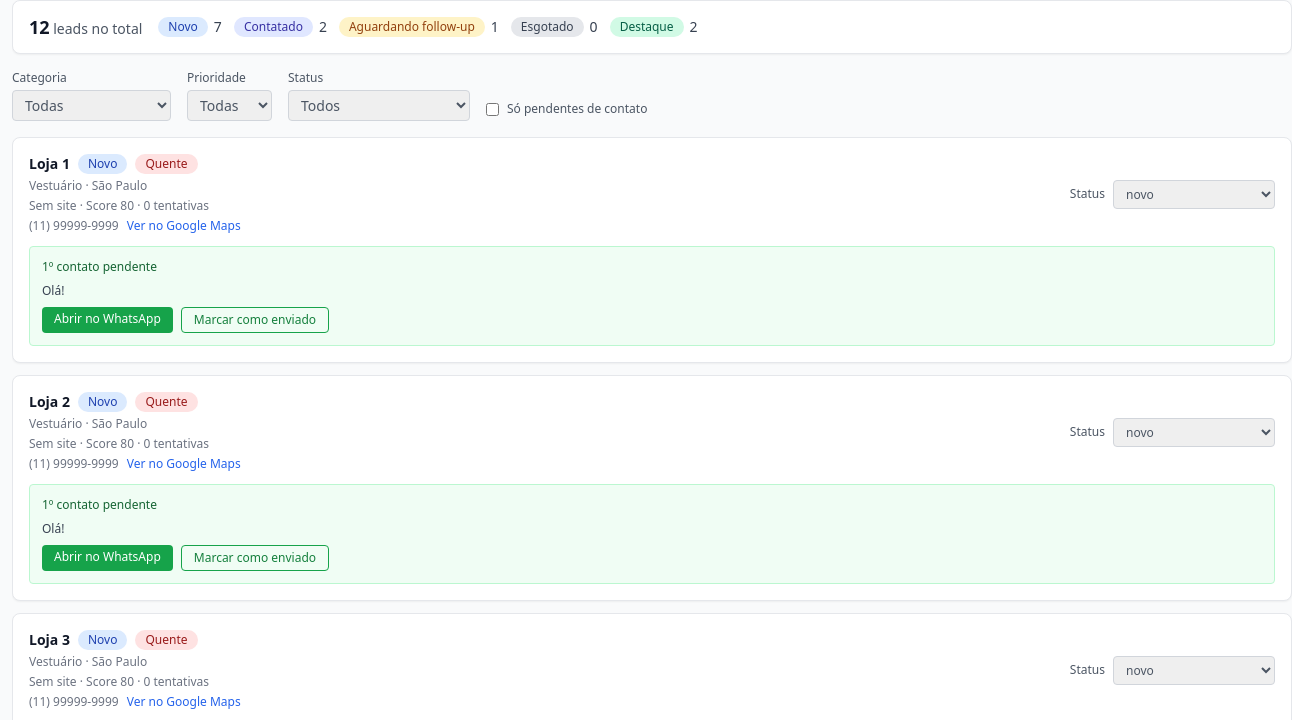
Test case: LeadsList › volta para a primeira página ao trocar o filtro
The image size is (1292, 720).
Expected: the heading "Loja 1" is shown, [29,154,70,174]
Select "sem_site" in the dropdown named "Filtrar por categoria" at (92,106), box [12,90,171,121]
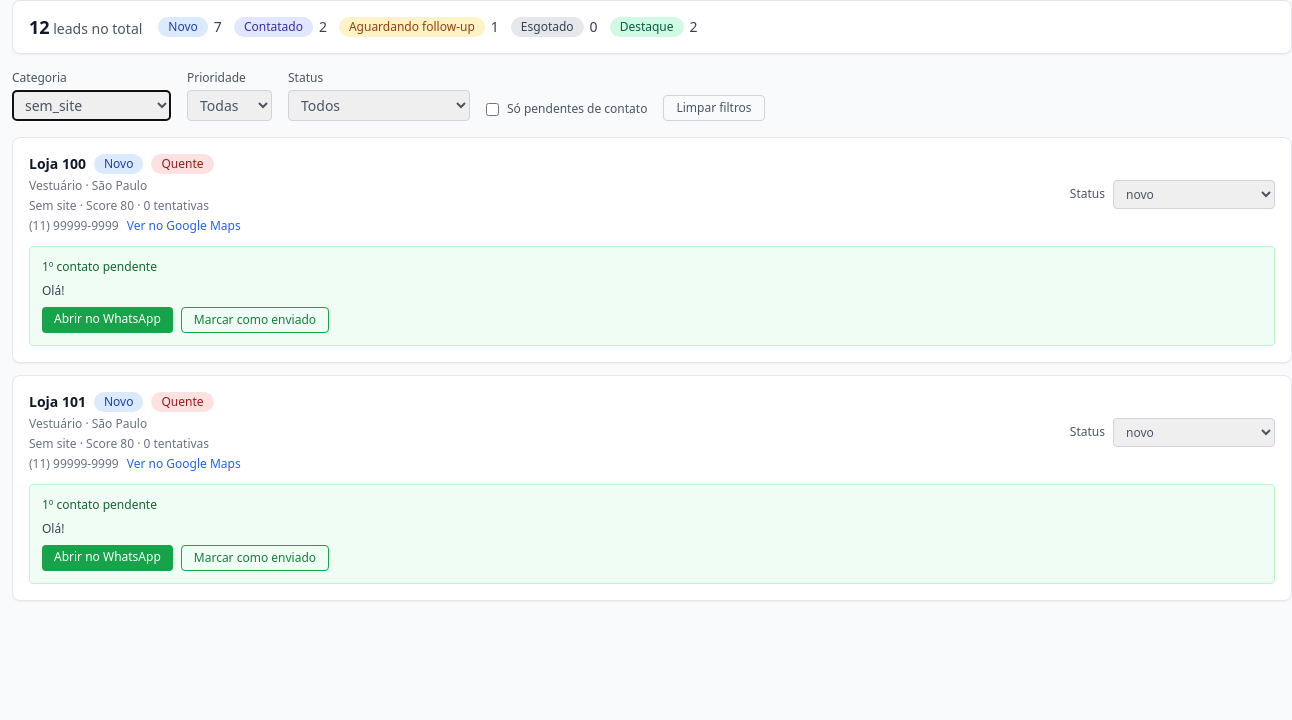
Expected: the heading "Loja 100" is shown, [29,154,86,174]
